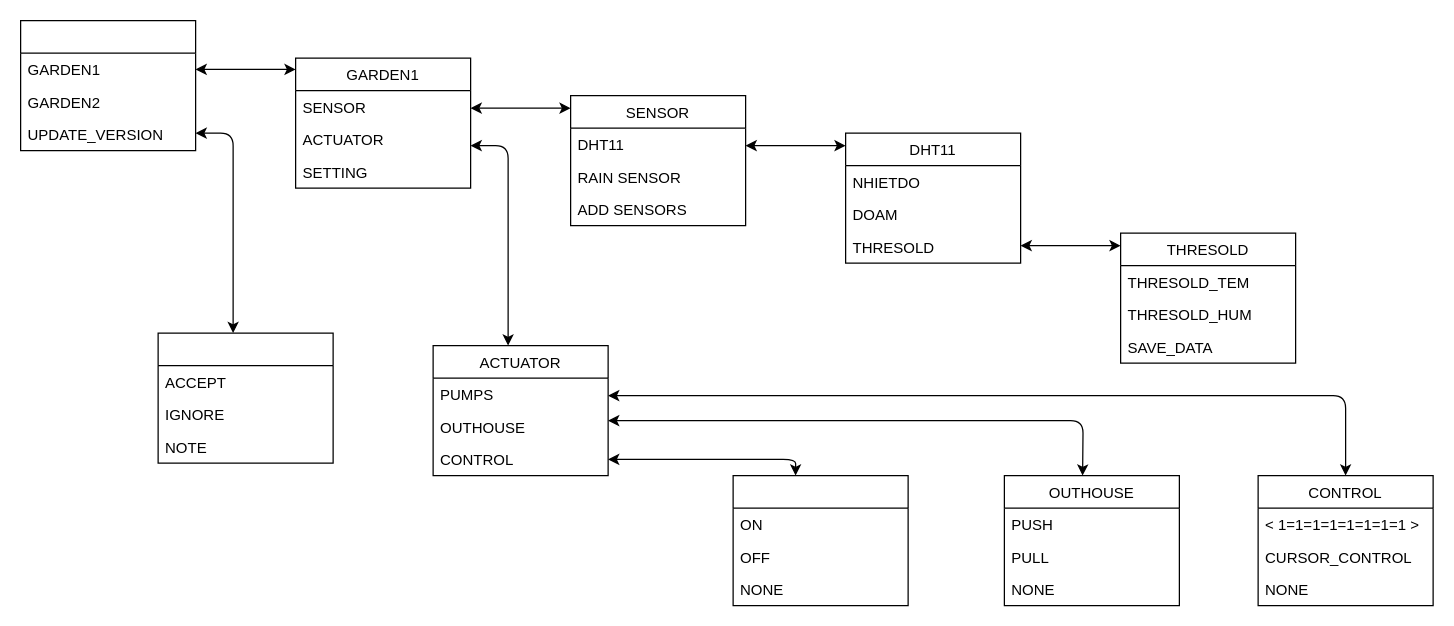
The diagram is 1454 pixels wide and 626 high, and some of its shapes have lost their labels. The box of each missing label's shape, as (x1, y1, x2, y2) in pixels:
MAIN MENU: (19, 19, 196, 151)
PUMP: (732, 474, 908, 606)
UPDATE: (157, 332, 333, 463)
